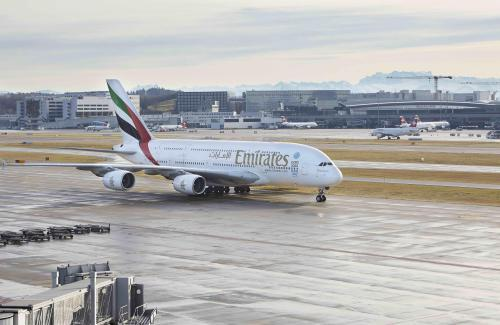airplane: (14, 79, 351, 198), (366, 121, 428, 139), (279, 113, 323, 130)
